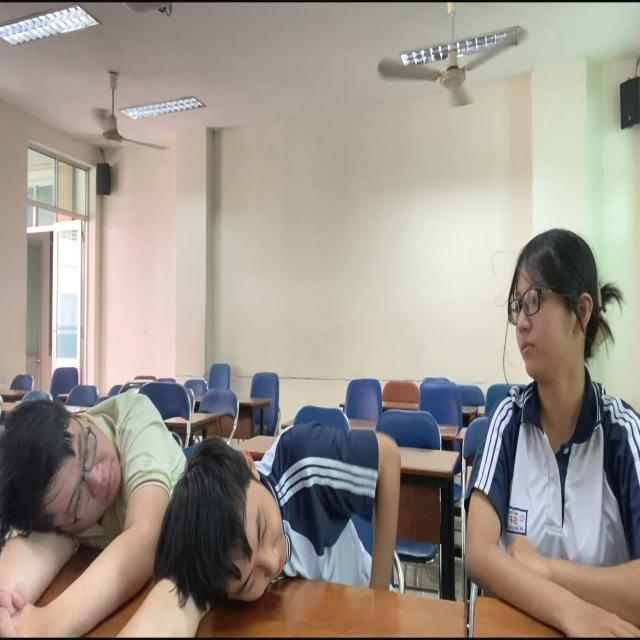sleep: (119, 390, 428, 640), (1, 317, 186, 640)
